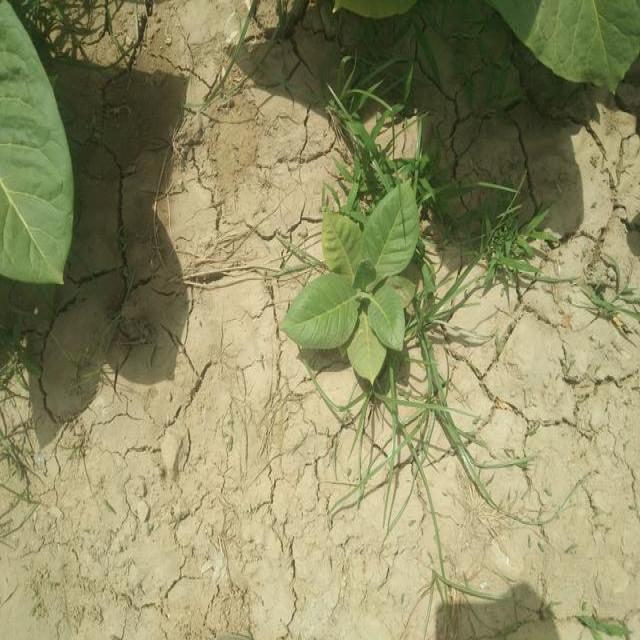crop: (280, 176, 423, 378), (0, 11, 74, 283), (497, 0, 640, 79), (320, 0, 412, 32)
